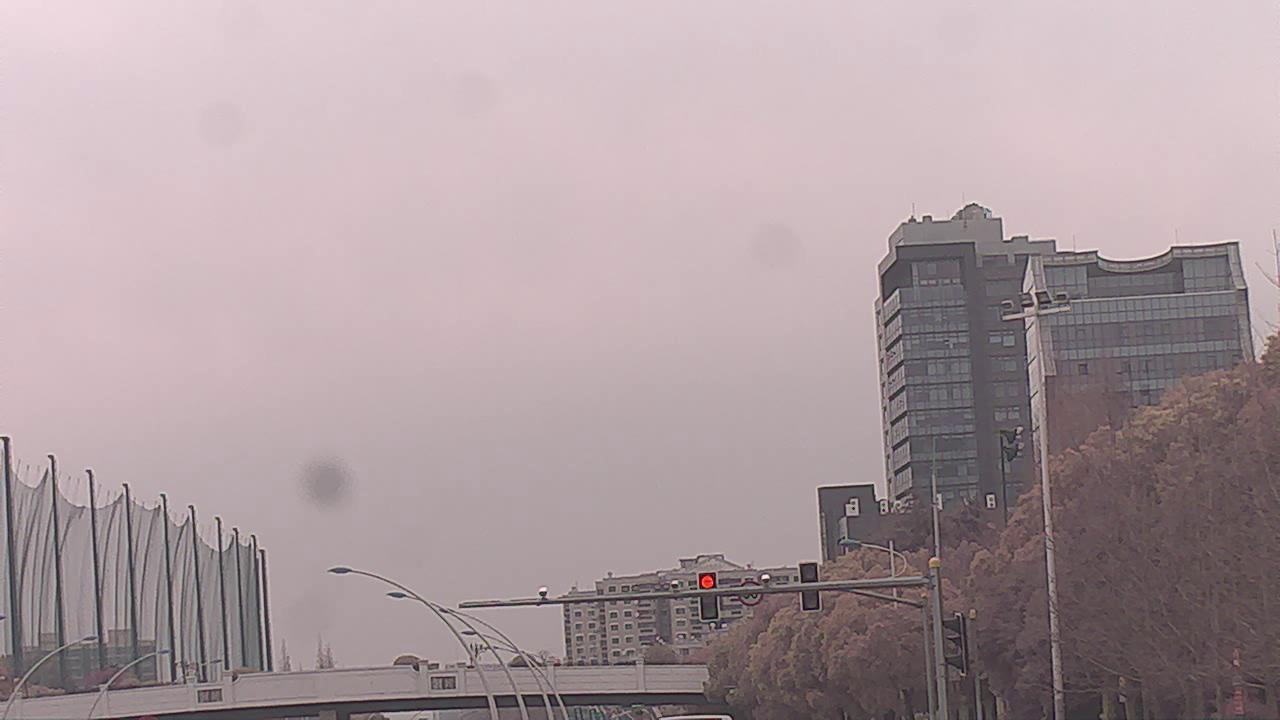traffic_light: (801, 562, 822, 611), (700, 571, 720, 620)
